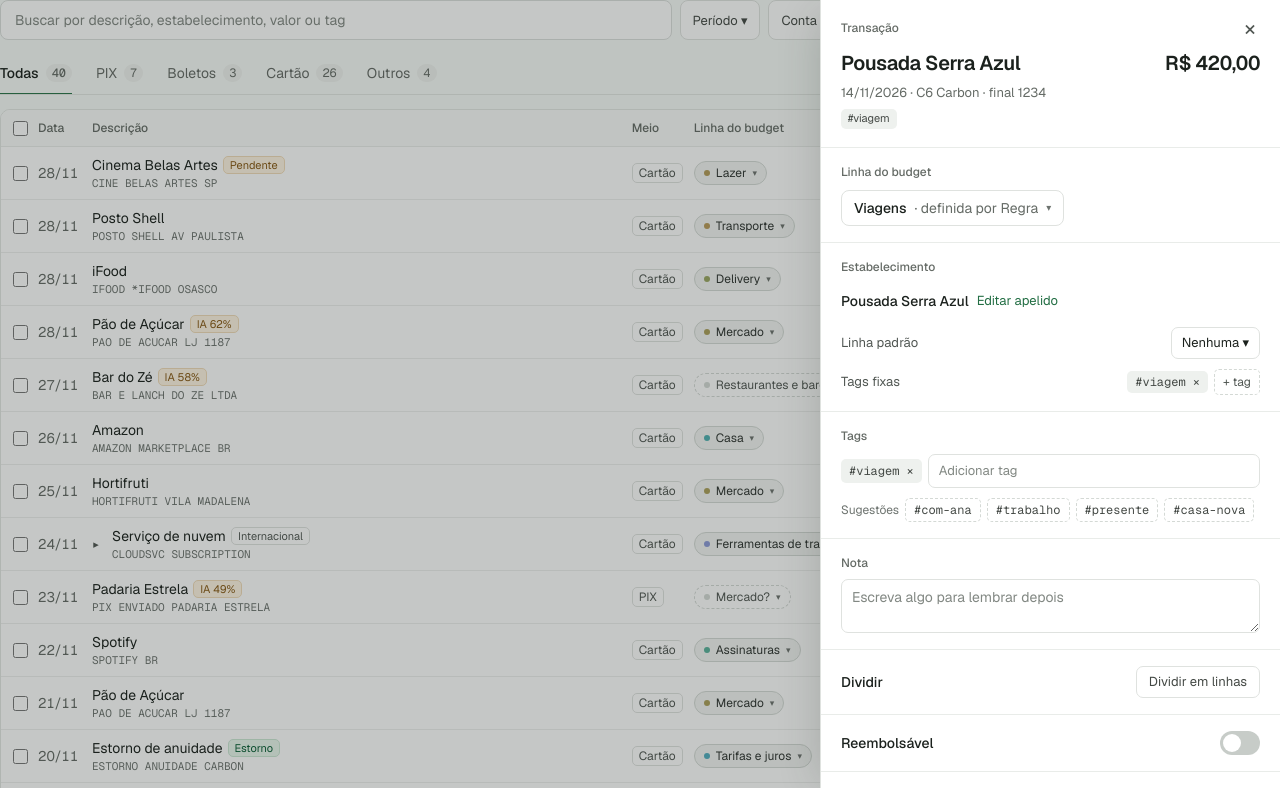
it: the establishment and the person › adds a fixed tag from the menu, without offering one it has, and removes it
The image size is (1280, 788).
Click the button "+ tag" at coordinates (1237, 382), box [1214, 369, 1260, 395]
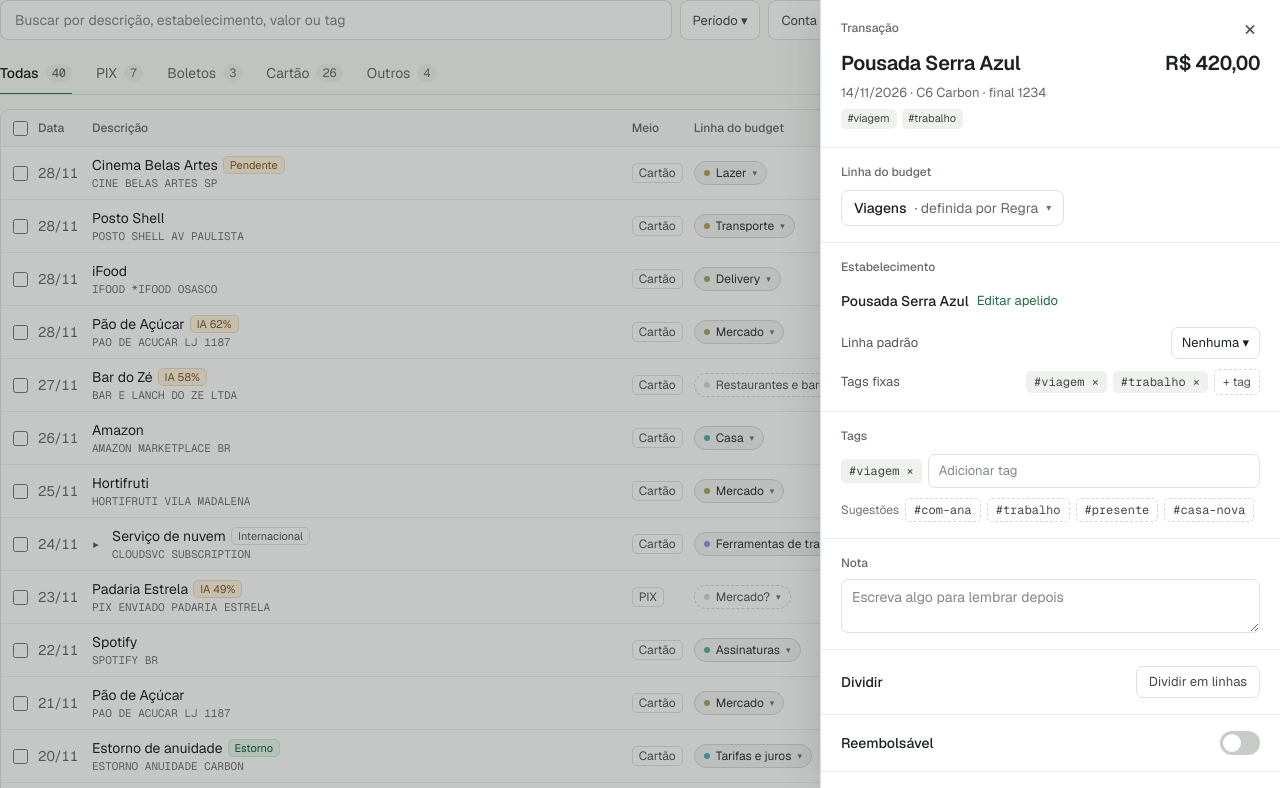
Result: the elements with class "chip" read "#viagem ×", "#trabalho ×", in this order
Click the button with class "chip" showing "#trabalho ×" at coordinates (1160, 382), box [1113, 371, 1208, 393]
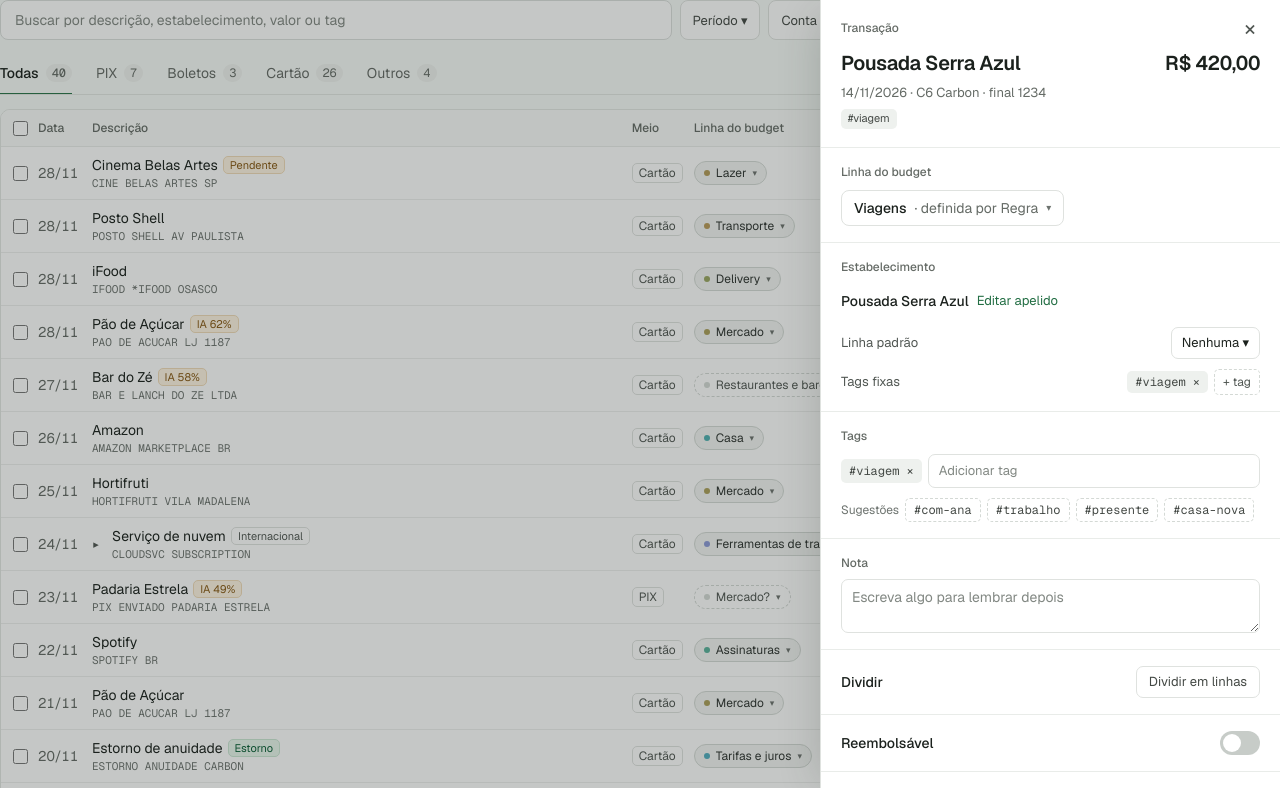
Result: the elements with class "chip" read "#viagem ×", in this order at [1127, 371, 1208, 393]
